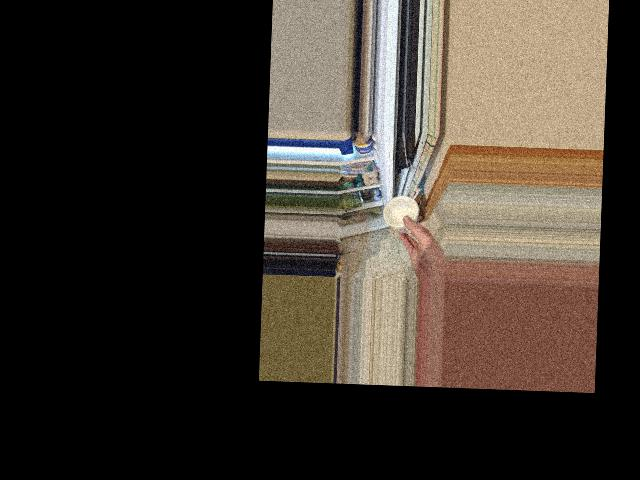cotage: (383, 190, 420, 236)
